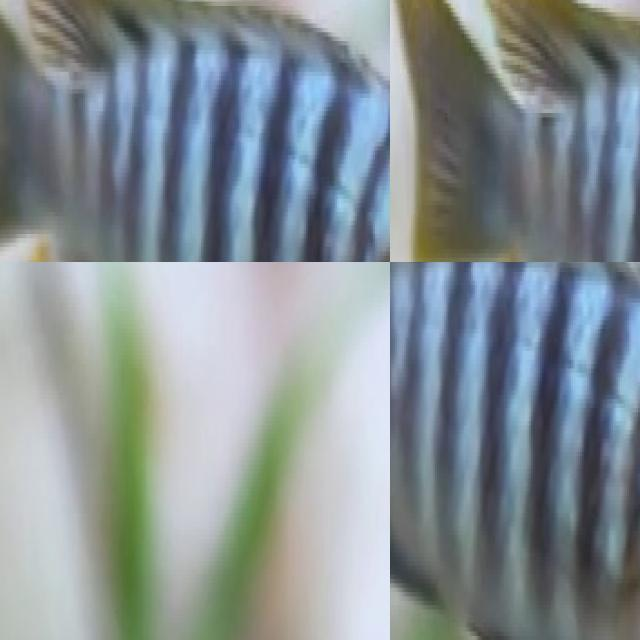fish: (0, 0, 390, 262), (390, 262, 640, 640)
